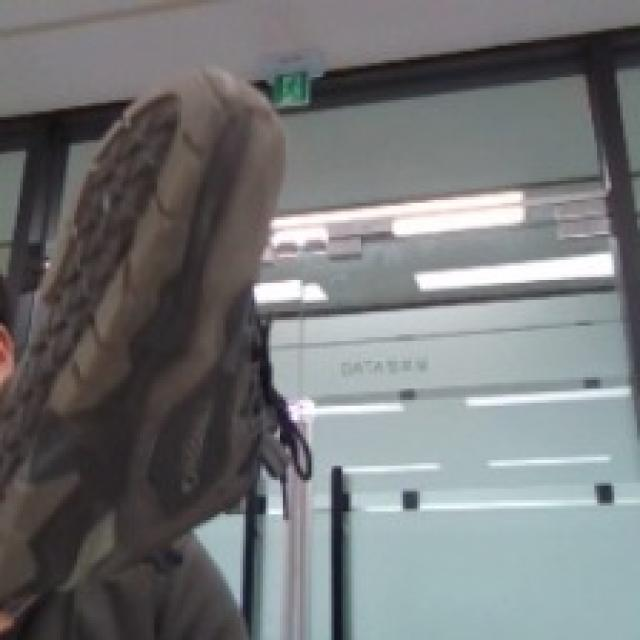shoe: (12, 35, 352, 640)
